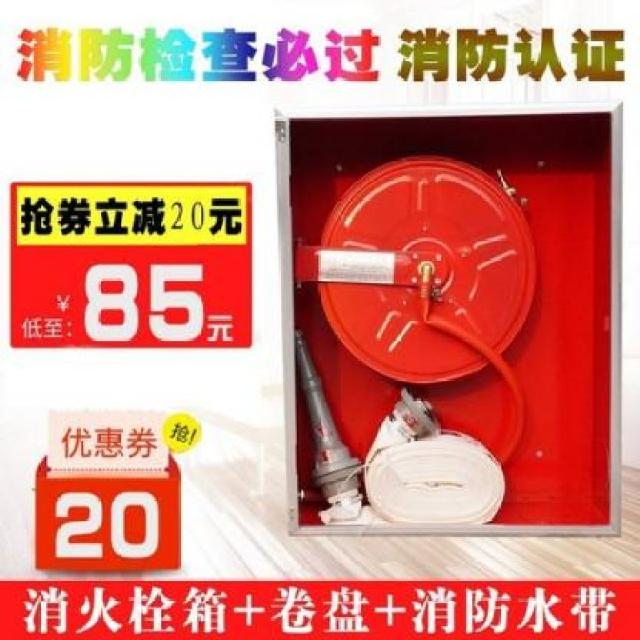firehydrant: (269, 95, 627, 544)
